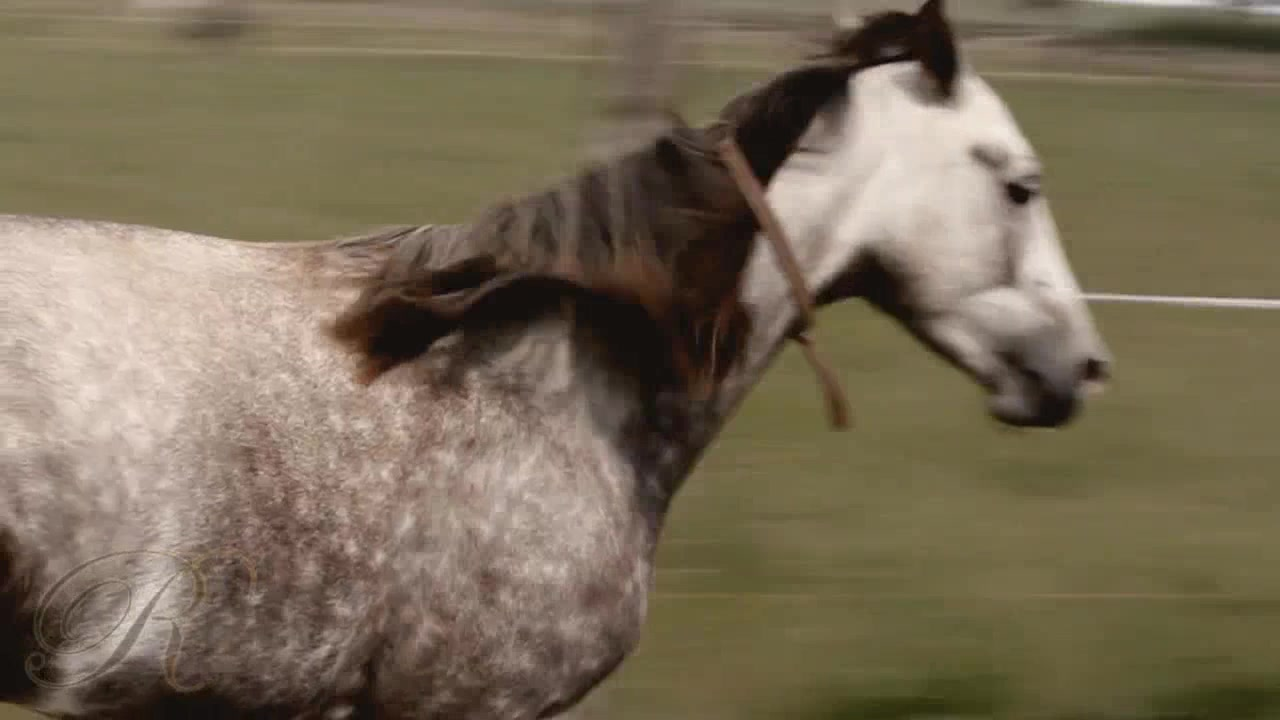horse: (3, 1, 1122, 720)
